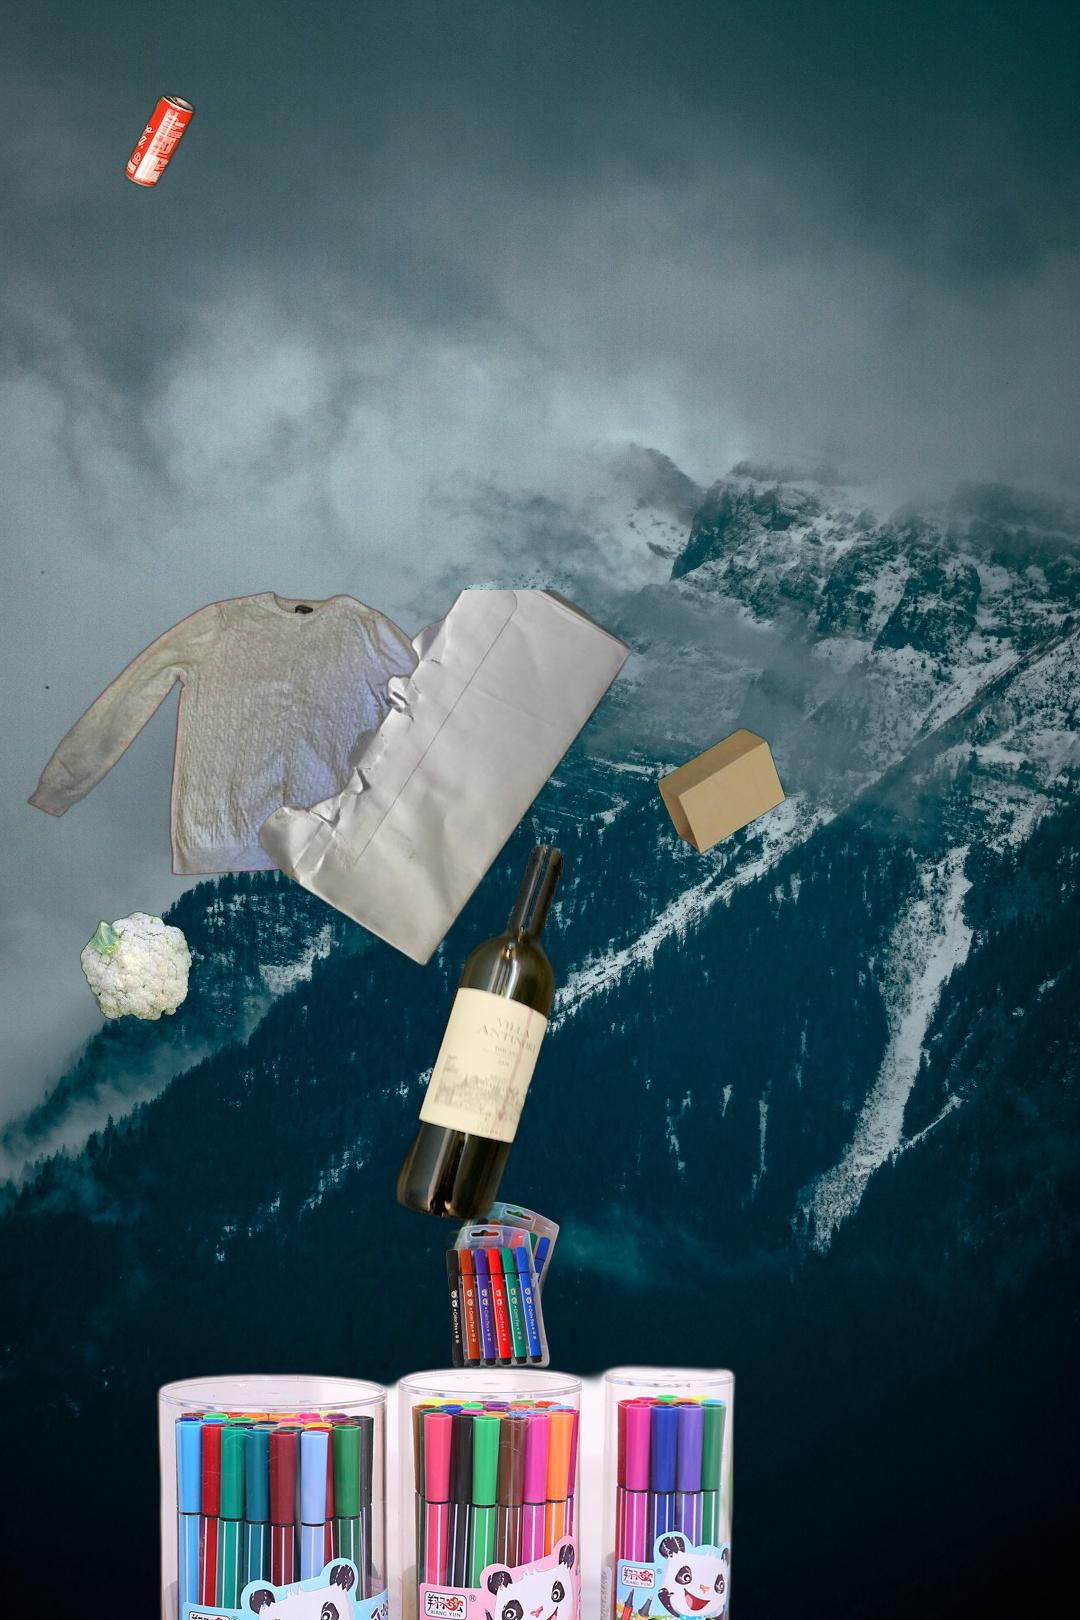biological: (77, 909, 195, 1025)
clothes: (23, 589, 552, 903)
glass: (391, 837, 568, 1227)
metal-cans: (122, 89, 199, 194)
paper: (253, 589, 636, 969)
paper-bag: (656, 724, 790, 857)
penholder: (152, 1358, 874, 1620), (331, 1141, 563, 1380)
